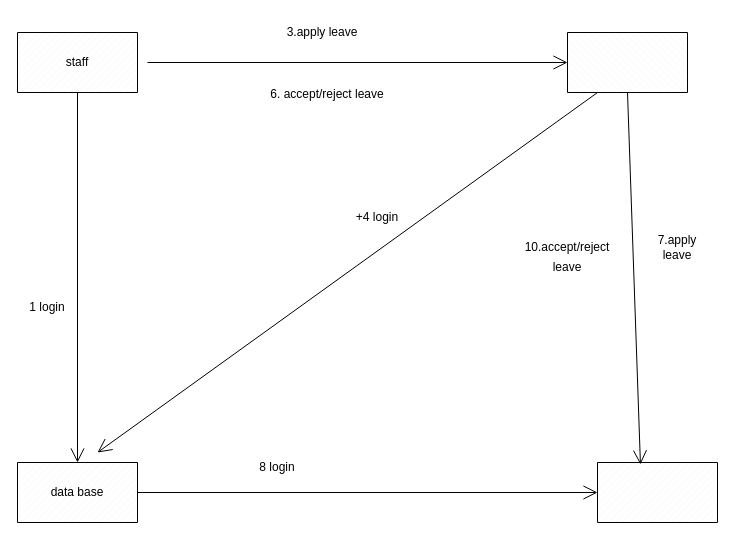
Image size: 735x540. Some labels were removed from this diagram. The shapes that lost their labels are listed below. From the top down, each one's box as (x1, y1, x2, y2) in pixels, then its label:
(566, 32, 688, 92): hod
(596, 462, 718, 522): principal
